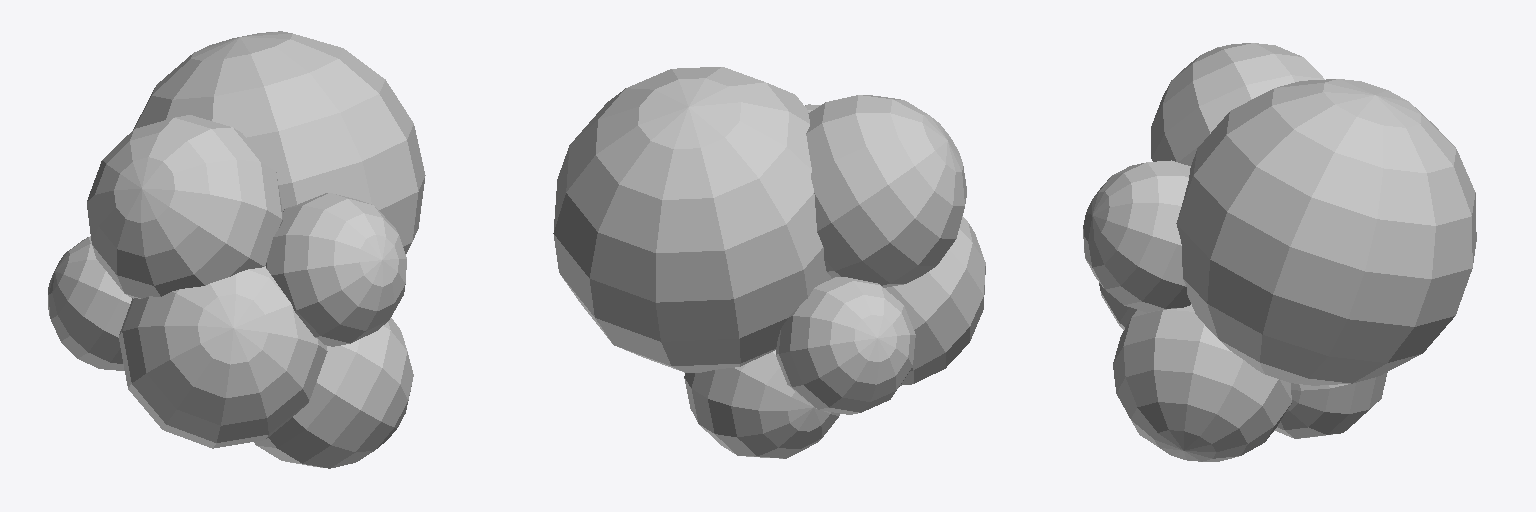
The model's file is Colorfull Bazooka - Spark (3).obj.
The picture shows the model from 3 angles: view 1: azimuth 30°, elevation 25°; view 2: azimuth 150°, elevation 25°; view 3: azimuth 270°, elevation 25°; orthographic projection.
Visible parts, largest first — view 1: group[number redacted], group[number redacted], group[number redacted], group[number redacted], group[number redacted], group[number redacted]; view 2: group[number redacted], group[number redacted], group[number redacted], group[number redacted], group[number redacted]; view 3: group[number redacted], group[number redacted], group[number redacted], group[number redacted], group[number redacted], group[number redacted].
Part boxes in pixels (left/top/right/bottom): group[number redacted]: left=133, top=31, right=425, bottom=253; group[number redacted]: left=87, top=115, right=282, bottom=298; group[number redacted]: left=119, top=266, right=327, bottom=448; group[number redacted]: left=266, top=193, right=406, bottom=346; group[number redacted]: left=254, top=318, right=413, bottom=468; group[number redacted]: left=48, top=236, right=131, bottom=370; group[number redacted]: left=553, top=67, right=830, bottom=372; group[number redacted]: left=806, top=95, right=966, bottom=287; group[number redacted]: left=776, top=277, right=915, bottom=414; group[number redacted]: left=684, top=350, right=839, bottom=458; group[number redacted]: left=885, top=216, right=985, bottom=385; group[number redacted]: left=1176, top=79, right=1476, bottom=385; group[number redacted]: left=1113, top=304, right=1291, bottom=461; group[number redacted]: left=1083, top=160, right=1190, bottom=312; group[number redacted]: left=1151, top=43, right=1324, bottom=165; group[number redacted]: left=1274, top=372, right=1387, bottom=438; group[number redacted]: left=1099, top=283, right=1136, bottom=329.
Bounding box in the file's own units: 1.79 × 1.83 × 1.78.